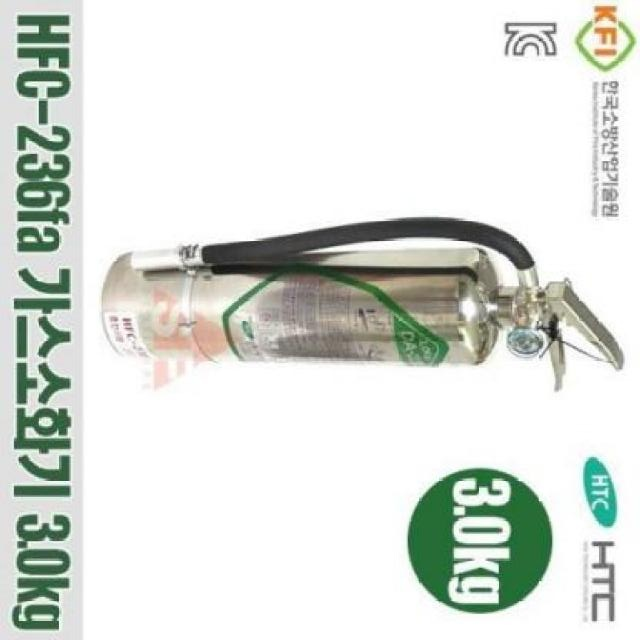fire extinguisher: (100, 217, 625, 391)
